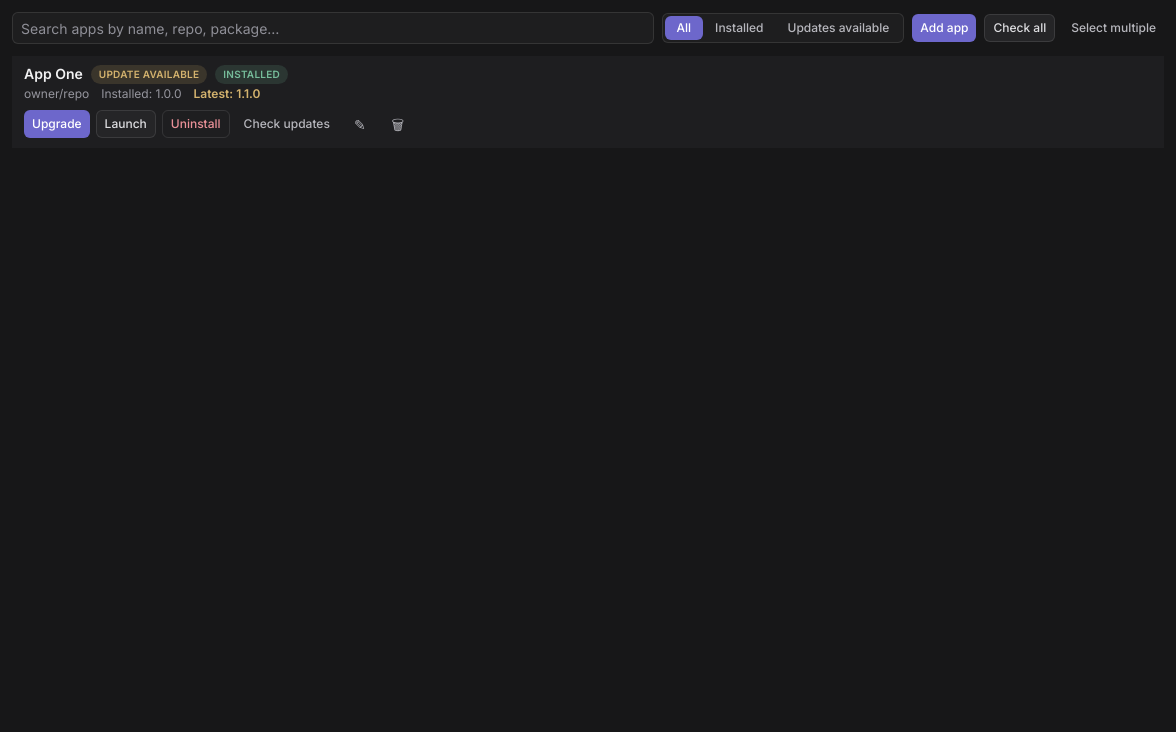
Scenario: check all updates › surfaces a partial-failure summary
The width and height of the screenshot is (1176, 732).
Click the button "Check all": [1020, 28] box [984,14,1055,42]
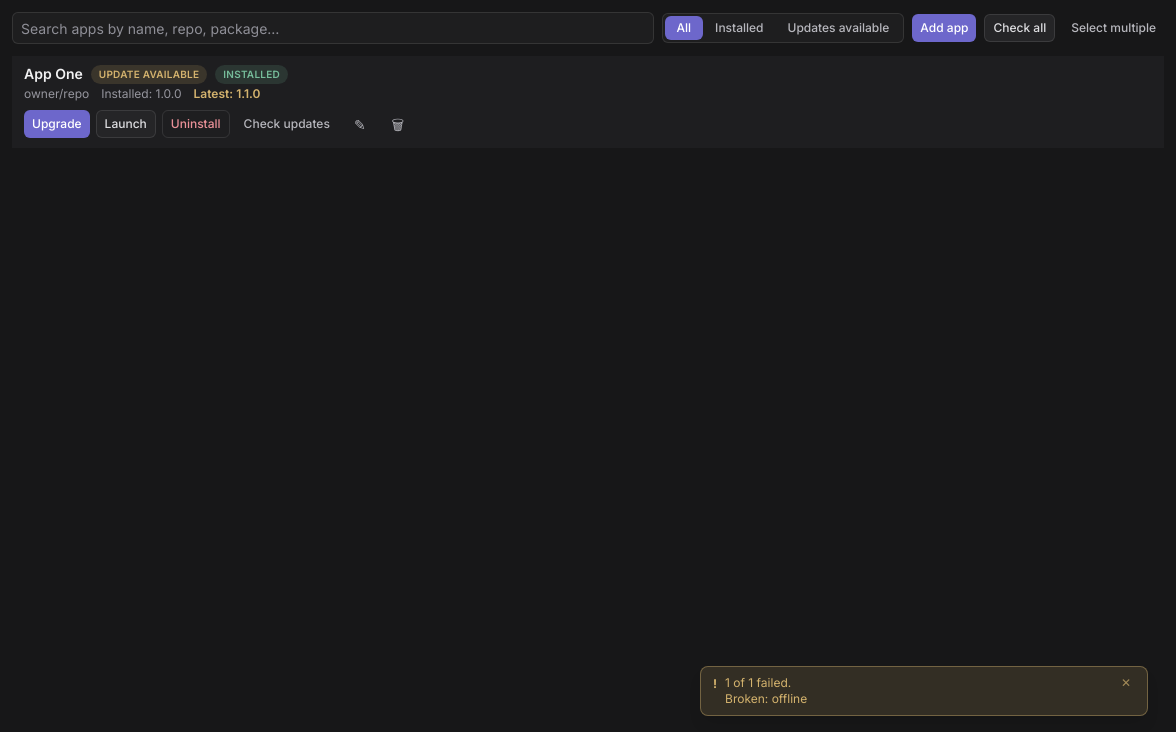
Check: the message shows "1 of 1 failed", box [725,675,807,706]
Check: the message shows "Broken: offline", box [725,675,807,706]
